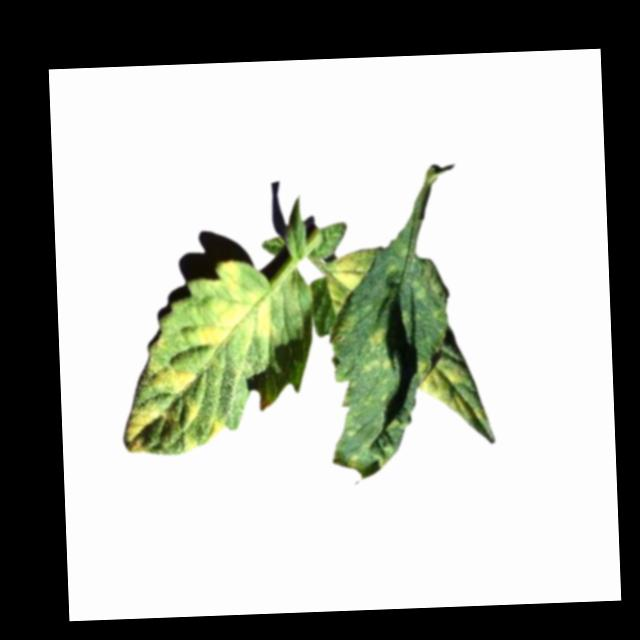Leaf_Mold: (190, 258, 278, 347), (420, 361, 470, 419), (125, 399, 172, 457), (328, 249, 372, 298), (138, 360, 199, 395), (359, 327, 392, 378), (207, 418, 226, 445)
